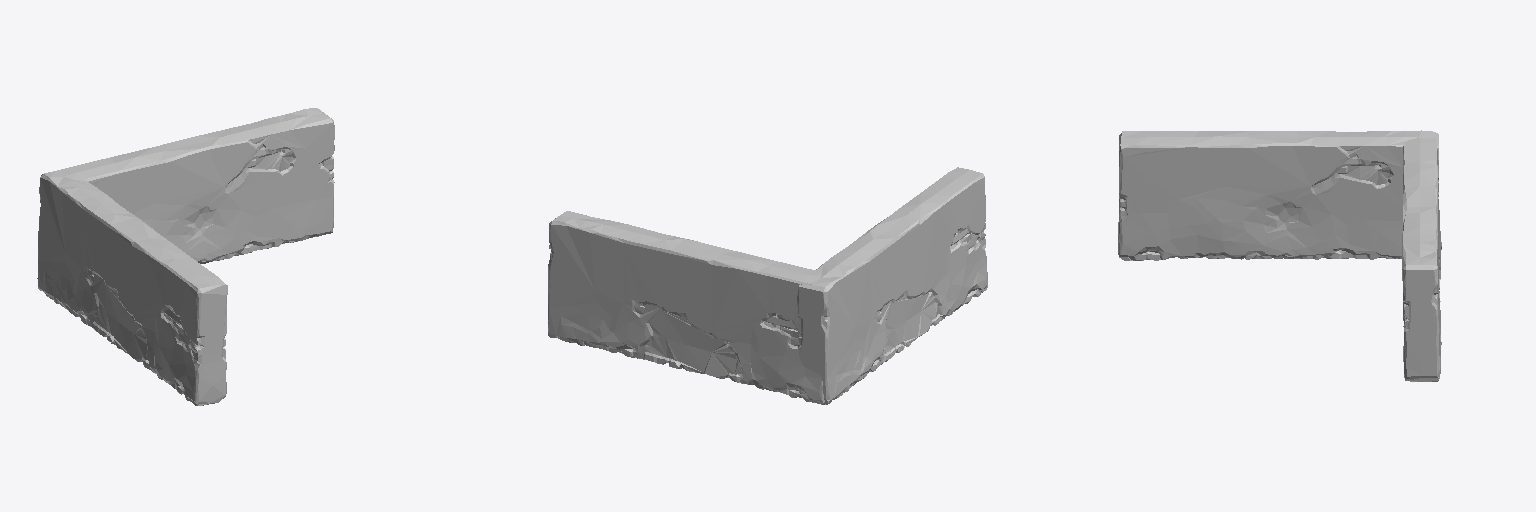
File: Twall.obj
3 renders of one model, left to right at view 1: azimuth 30°, elevation 25°; view 2: azimuth 150°, elevation 25°; view 3: azimuth 270°, elevation 25°, orthographic.
Parts seen in each view (by area): view 1: Mesh_Mesh_head_geo.001_lambert2SG.001; view 2: Mesh_Mesh_head_geo.001_lambert2SG.001; view 3: Mesh_Mesh_head_geo.001_lambert2SG.001.
Boxes of the visible parts, <box> form: Mesh_Mesh_head_geo.001_lambert2SG.001: <box>37,108,334,405</box>; Mesh_Mesh_head_geo.001_lambert2SG.001: <box>548,167,987,404</box>; Mesh_Mesh_head_geo.001_lambert2SG.001: <box>1118,130,1441,381</box>.
Bounding box in the file's own units: 204 × 82.28 × 202.